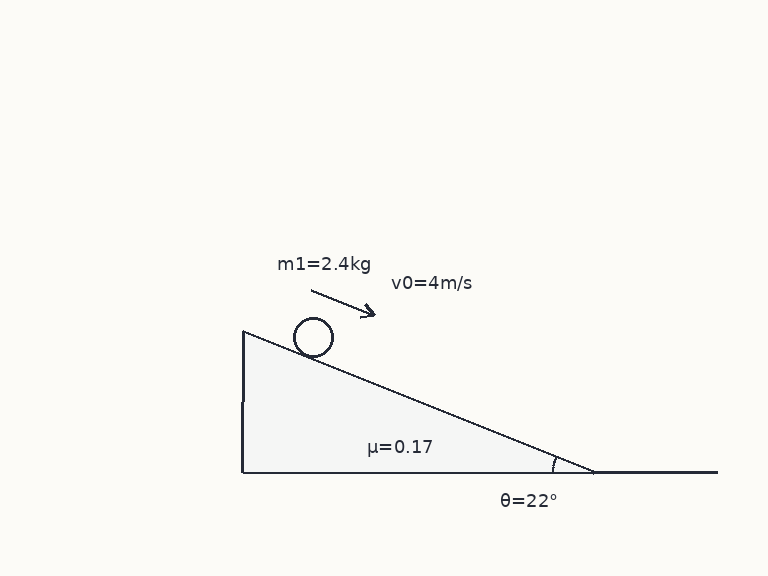ball: (291, 315, 335, 359)
ramp: (241, 328, 595, 474)
